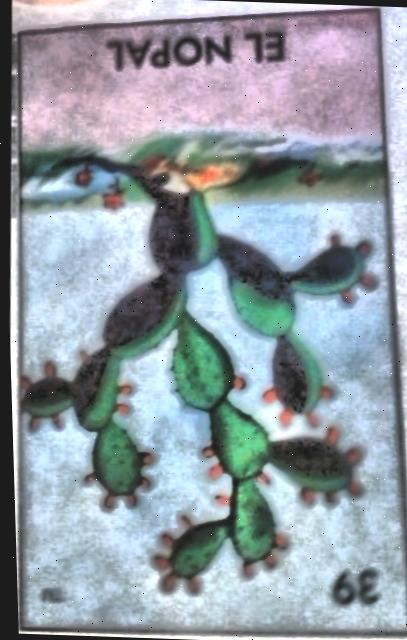El Nopal: (14, 8, 407, 628)
